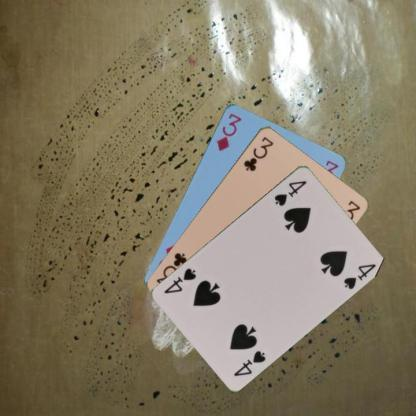3c: (240, 134, 275, 172)
3d: (214, 110, 243, 152)
4s: (230, 348, 268, 378), (272, 177, 308, 207)
